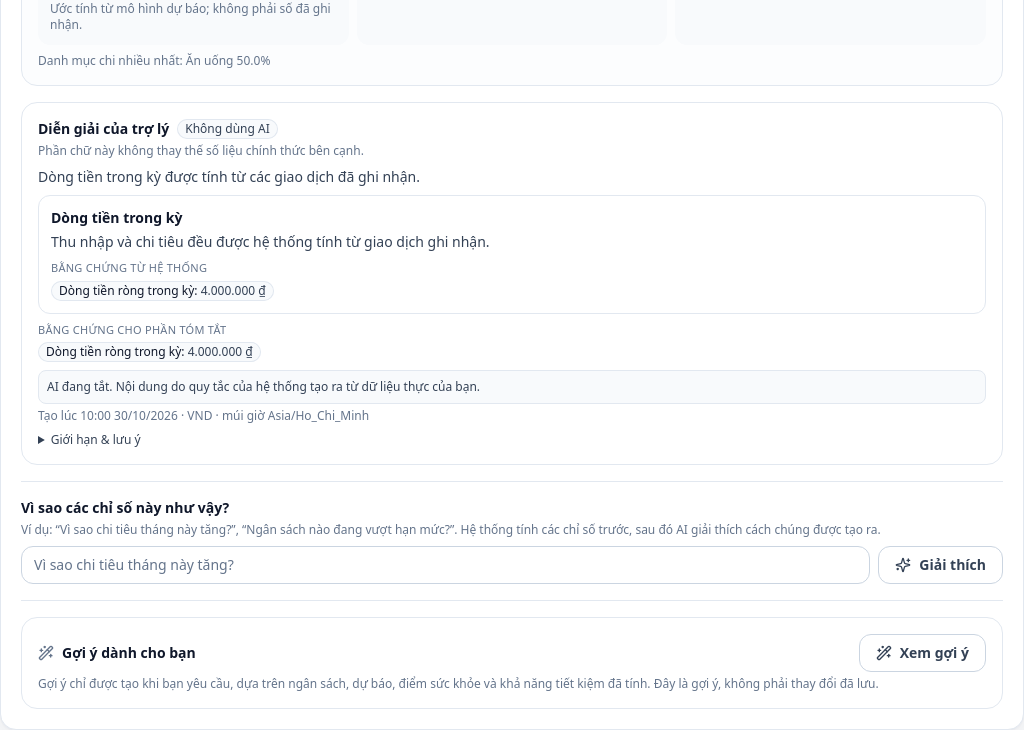
Test: AnalyticsAiPanel — explanation › asks for an explanation without a question when the field is empty
This screenshot has width=1024, height=730.
(page scrolled)
Check: the element with test id "ai-analytics-summary-text" is shown, box [21,102,1003,465]
What coordinates should you click on to do the following:
click the button "Giải thích"
I would click on:
 (941, 565)
Its box is [878,546,1003,584].
(page scrolled)
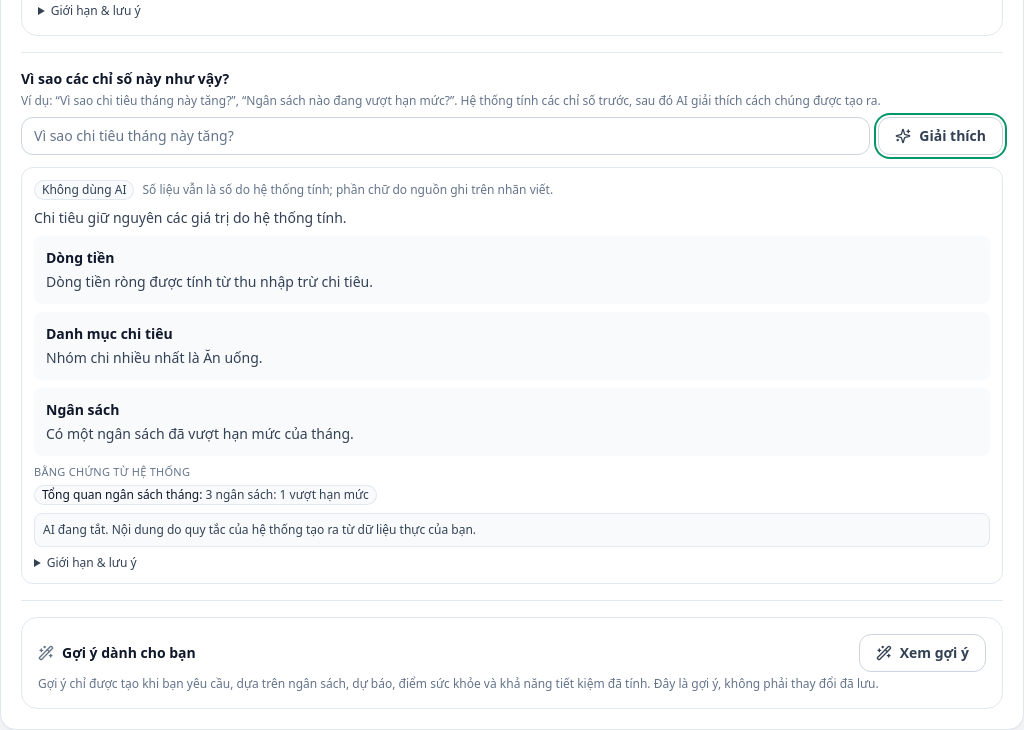
Check: the text "Nhóm chi nhiều nhất là Ăn uống." is shown, box [46,348,263,367]
